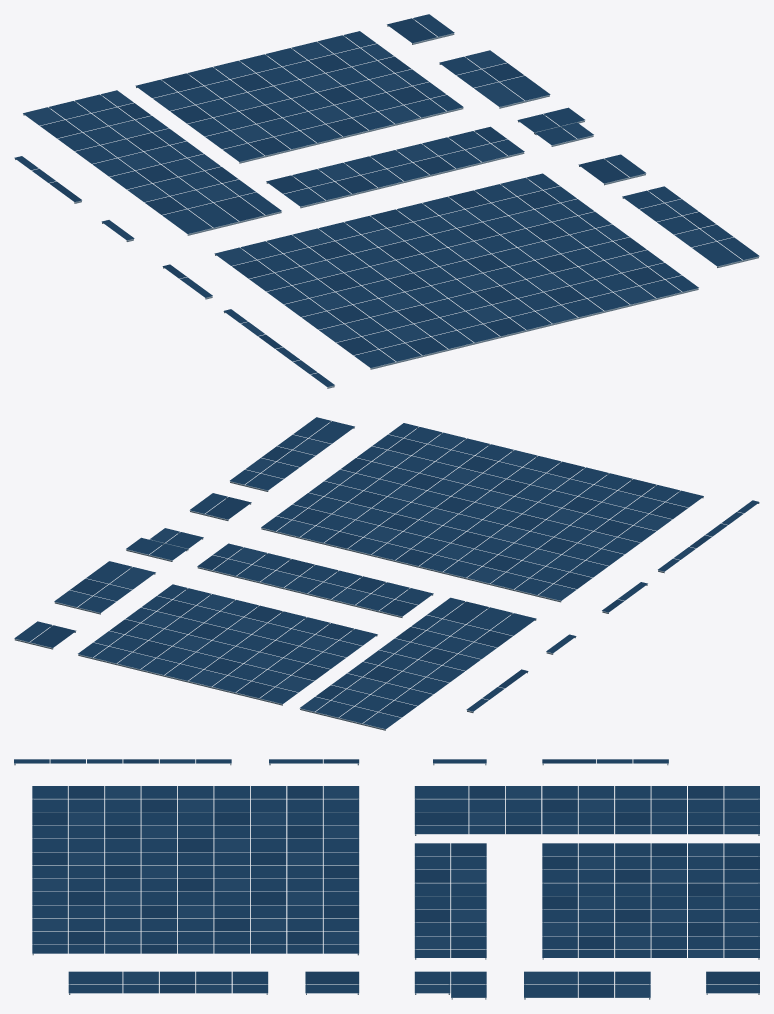
The model's file is SM_MPRSU_SolarBank_01_0_LOD2.fbx.
3 renders of one model, top to bottom at view 1: azimuth 30°, elevation 25°; view 2: azimuth 150°, elevation 25°; view 3: azimuth 270°, elevation 25°, orthographic. The views are drawn at different scales.
Visible parts, largest first — view 1: SM_MPRSU_SolarBank_01_0_LOD2; view 2: SM_MPRSU_SolarBank_01_0_LOD2; view 3: SM_MPRSU_SolarBank_01_0_LOD2.
Boxes of the visible parts, x1,y1,x2,y2 form: SM_MPRSU_SolarBank_01_0_LOD2: [14, 14, 759, 388]; SM_MPRSU_SolarBank_01_0_LOD2: [14, 417, 759, 730]; SM_MPRSU_SolarBank_01_0_LOD2: [14, 759, 759, 999].
Bounding box in the file's own units: 6040 × 7987 × 24.6.
